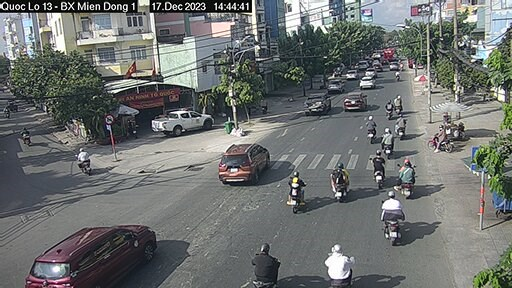car: (26, 215, 150, 288), (206, 142, 271, 181), (303, 89, 331, 116), (365, 118, 382, 143), (344, 92, 367, 108), (360, 76, 379, 90), (327, 79, 346, 92)
motorbike: (319, 239, 355, 281), (249, 243, 280, 286), (327, 166, 354, 198), (380, 196, 399, 239), (372, 148, 392, 188), (281, 176, 303, 209), (399, 160, 411, 196)
